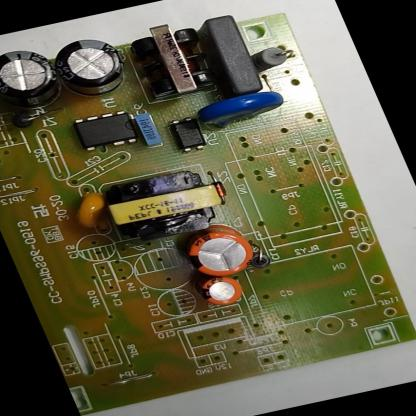Cap1: (172, 219, 265, 283)
Cap2: (192, 270, 252, 311)
Cap3: (44, 34, 138, 104)
Cap4: (0, 43, 73, 118)
MOSFET: (66, 107, 147, 157)
Mov: (190, 83, 294, 132)
Resistor: (245, 40, 301, 76)
Transformer: (89, 160, 242, 248), (119, 17, 225, 107)
